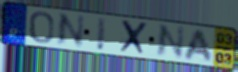A: (183, 29, 214, 64)
I: (95, 16, 108, 52)
N: (54, 12, 87, 49), (154, 24, 186, 60)
O: (28, 10, 55, 45)
X: (118, 18, 150, 58)
